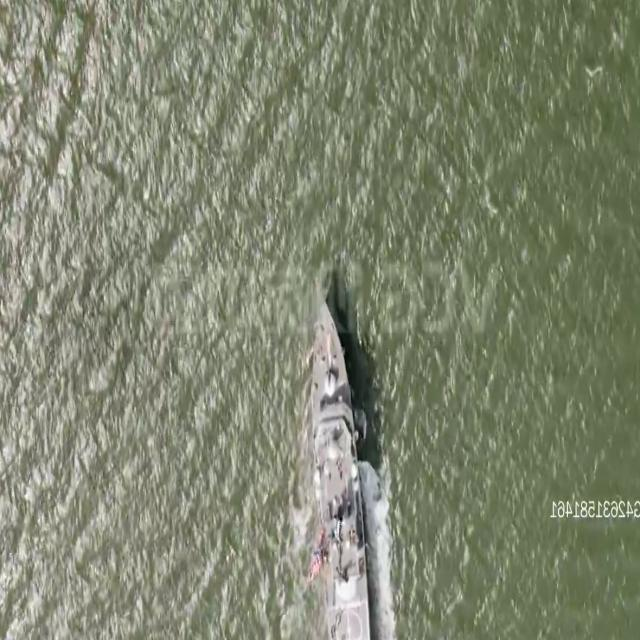navalvessels: (309, 295, 373, 640)
